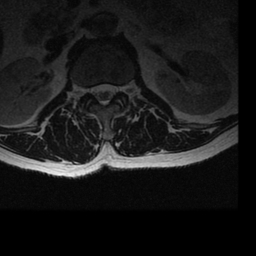CCS_normal: (99, 75, 107, 110)
LFS_stenosis: (116, 77, 123, 99)
LLS_normal: (108, 76, 116, 105)
RFS_stenosis: (83, 78, 91, 101)
RLS_normal: (91, 76, 99, 104)
